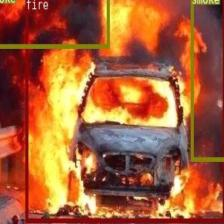fire: (25, 0, 224, 222)
smoke: (190, 0, 223, 160), (0, 0, 109, 47)
